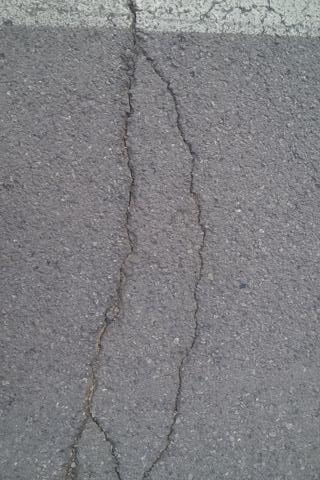A: (67, 3, 206, 480)
